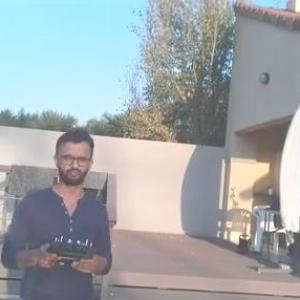follow: (0, 120, 118, 299)
